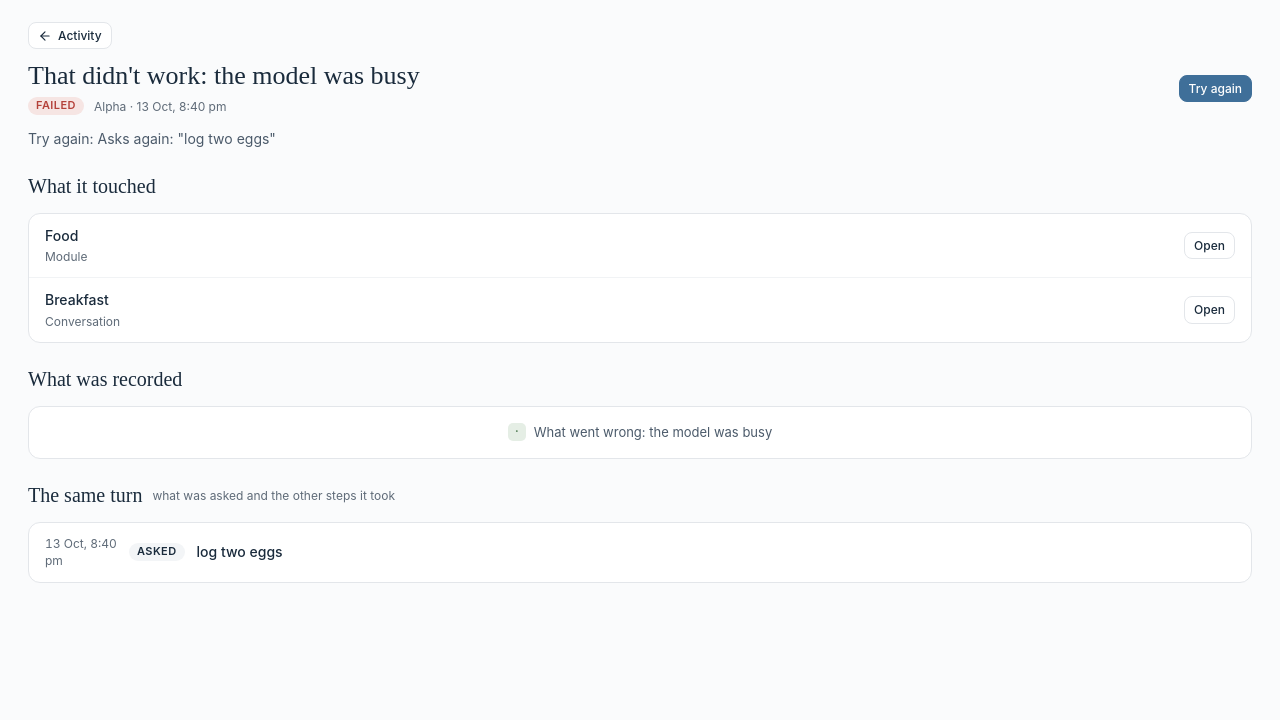
a page for every item (slice 2 D12) › shows what an entry touched and its turn, and tries a failure again
The image size is (1280, 720).
Expected: the heading "That didn't work: the model was busy" is shown, left=28, top=61, right=420, bottom=90
Expected: the text "What went wrong: the model was busy" is shown, left=534, top=423, right=772, bottom=442
Click the button "Open" in the row of "Conversation" at (1210, 310), box left=1184, top=296, right=1235, bottom=324
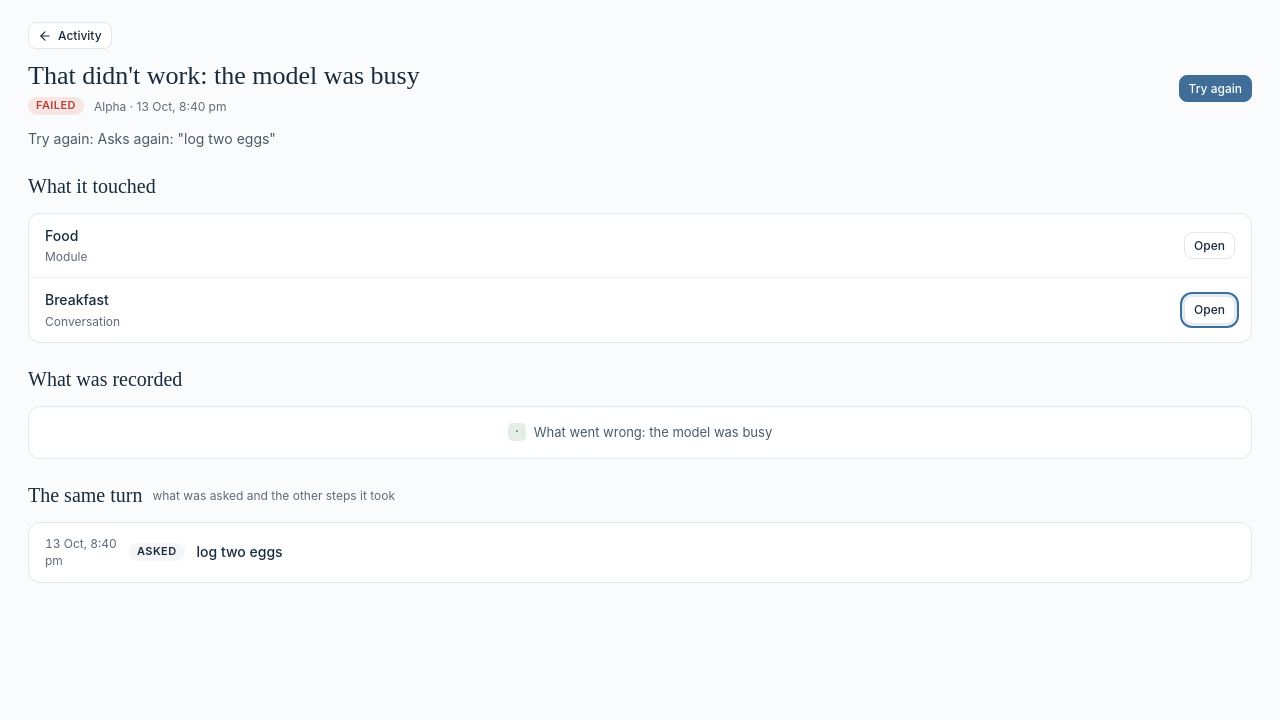
Click the button "13 Oct, 8:40 pm Asked log two eggs" at (81, 543), box left=29, top=523, right=1251, bottom=582
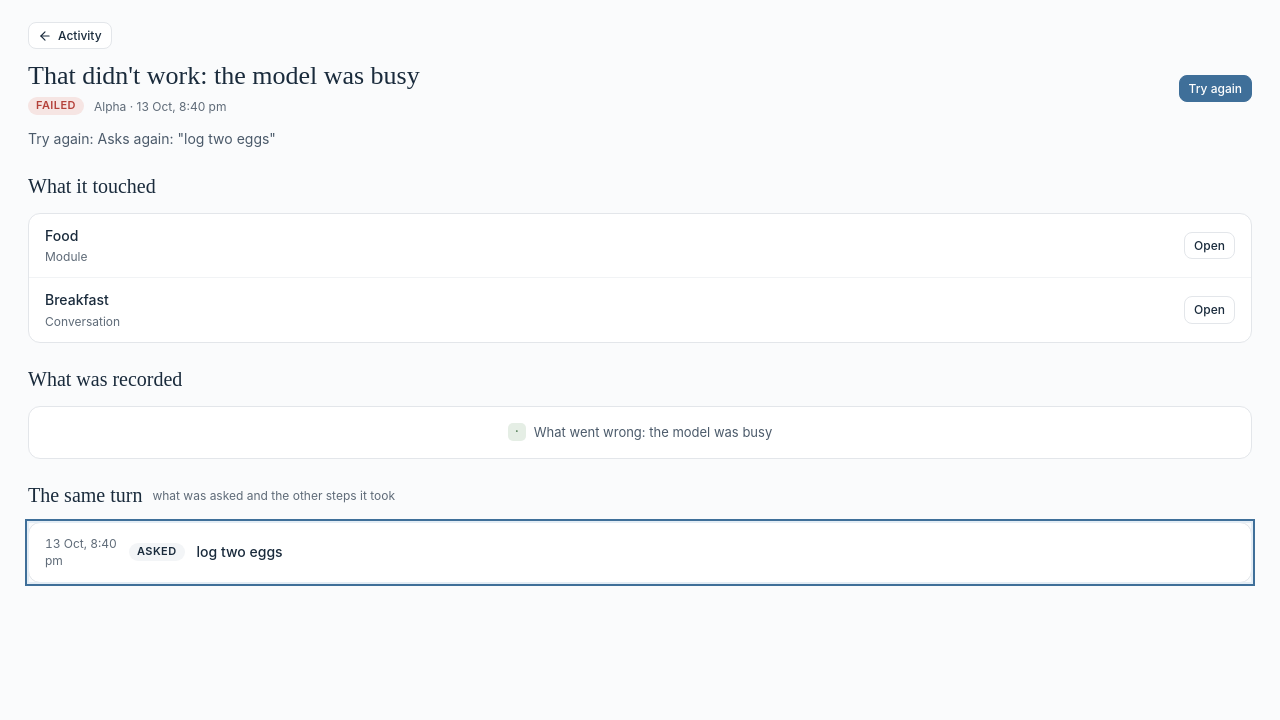
Click the button "Try again" at (1215, 88), box left=1179, top=75, right=1252, bottom=102
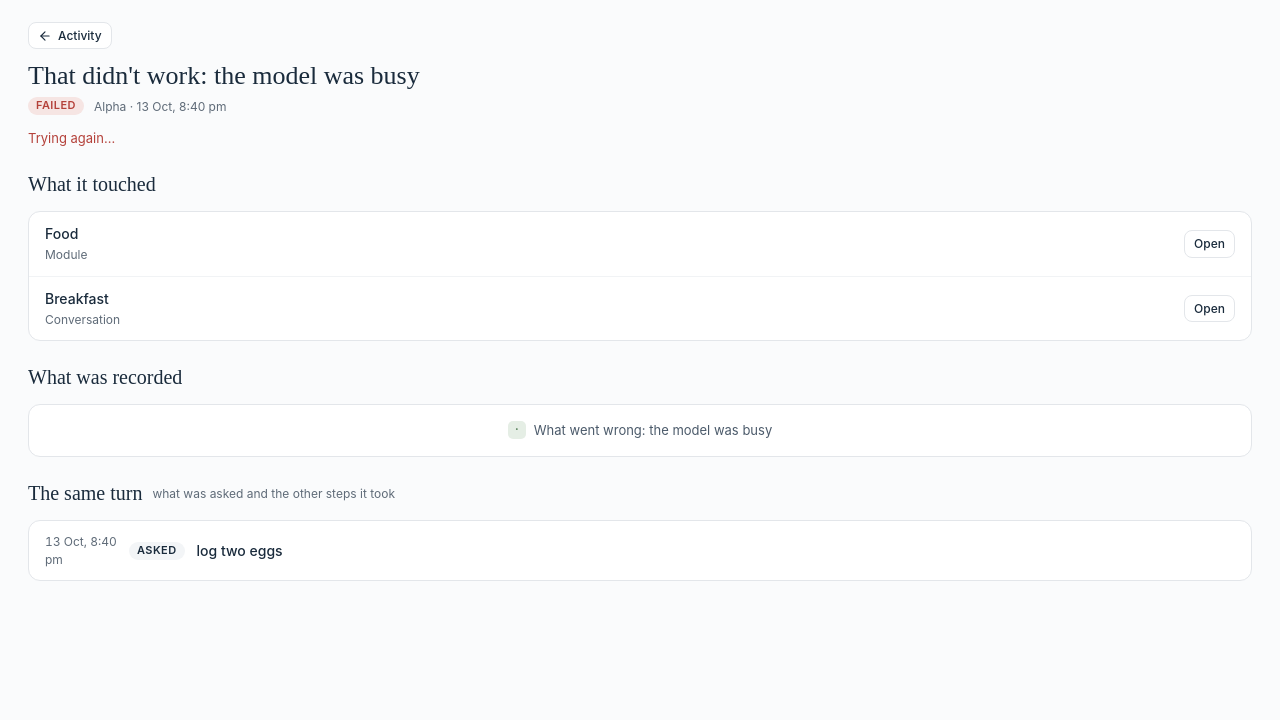
Expected: the message reads "Trying again…", left=28, top=130, right=115, bottom=146
Expected: the button "Try again" is gone
